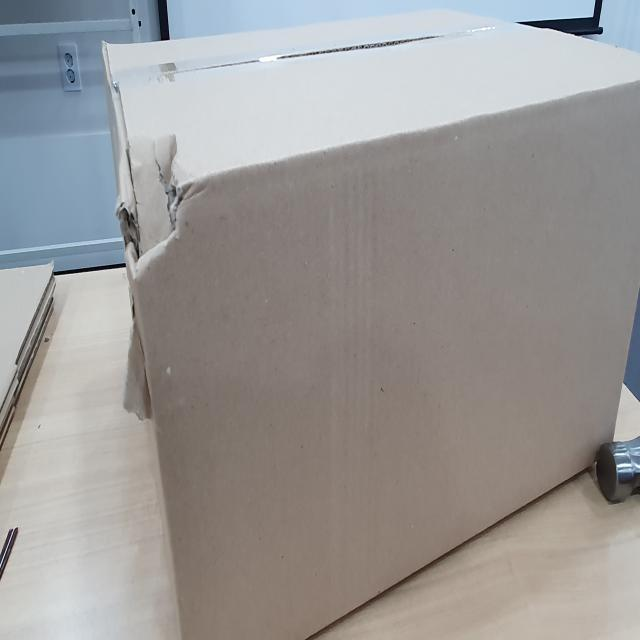hole: (122, 126, 196, 275)
